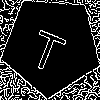T: (26, 21, 71, 75)
